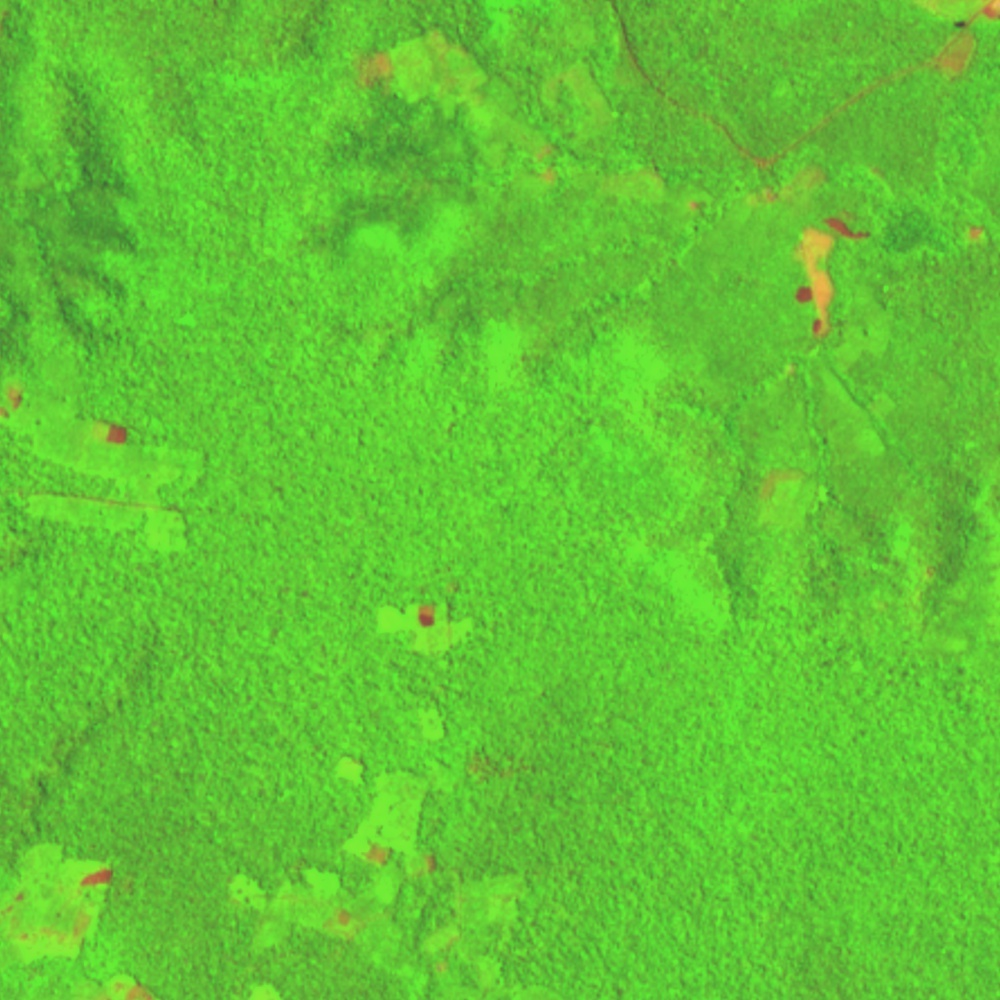legal: (224, 701, 563, 1000), (1, 378, 214, 552), (360, 25, 589, 174), (1, 842, 115, 967), (601, 161, 831, 220), (793, 212, 872, 347), (371, 590, 488, 660), (755, 460, 824, 532), (937, 1, 1000, 75), (909, 556, 948, 612), (106, 974, 160, 1000), (245, 980, 285, 1000), (961, 220, 988, 243)
